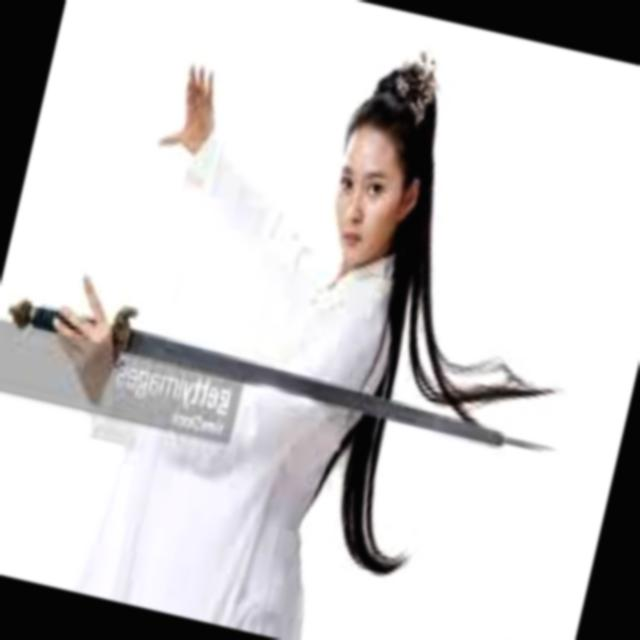long sword: (0, 284, 563, 466)
